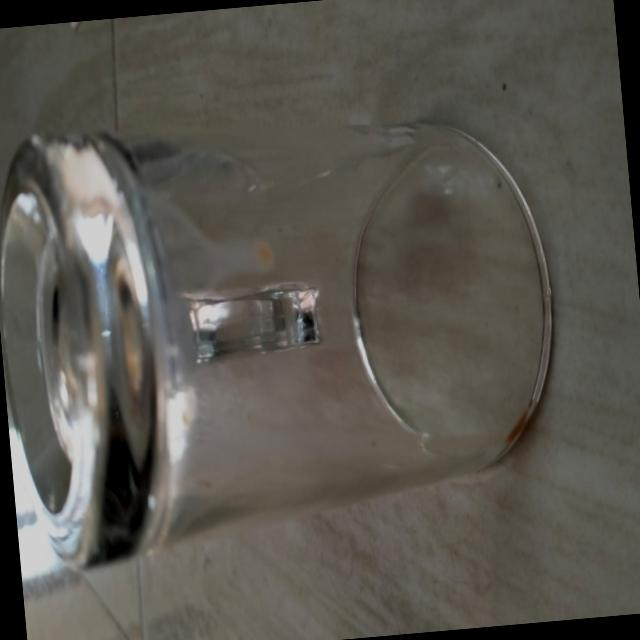glass-VX4N: (0, 84, 572, 576)
